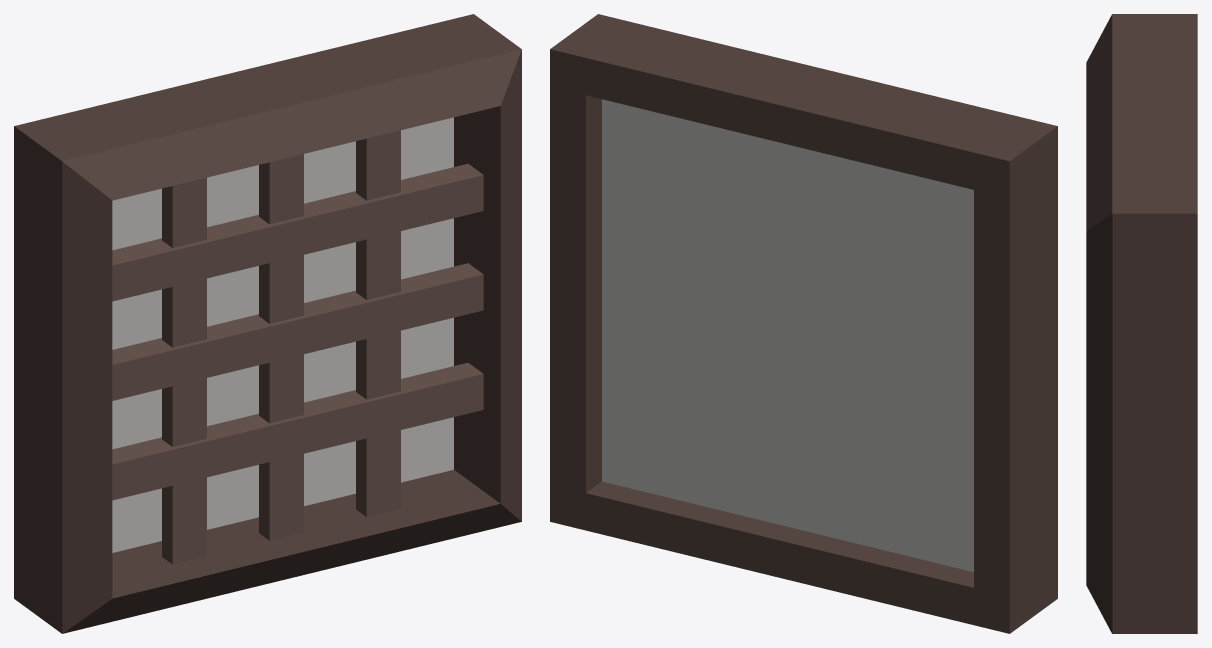
File: SM_Env_Window_09.fbx
The picture shows the model from 3 angles, left to right: view 1: azimuth 30°, elevation 25°; view 2: azimuth 150°, elevation 25°; view 3: azimuth 270°, elevation 25°; orthographic projection. The views are drawn at different scales.
Parts seen in each view (by area): view 1: SM_Env_Window_09; view 2: SM_Env_Window_09; view 3: SM_Env_Window_09.
Boxes of the visible parts, x1,y1,x2,y2 form: SM_Env_Window_09: (14,14,521,633); SM_Env_Window_09: (550,14,1057,633); SM_Env_Window_09: (1086,14,1197,633).
Bounding box in the file's own units: 98.54 × 96.82 × 23.27.
Materials: 1 (1 with a texture image).
